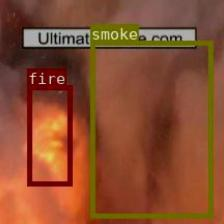fire: (26, 84, 72, 186)
smoke: (90, 40, 212, 218)
